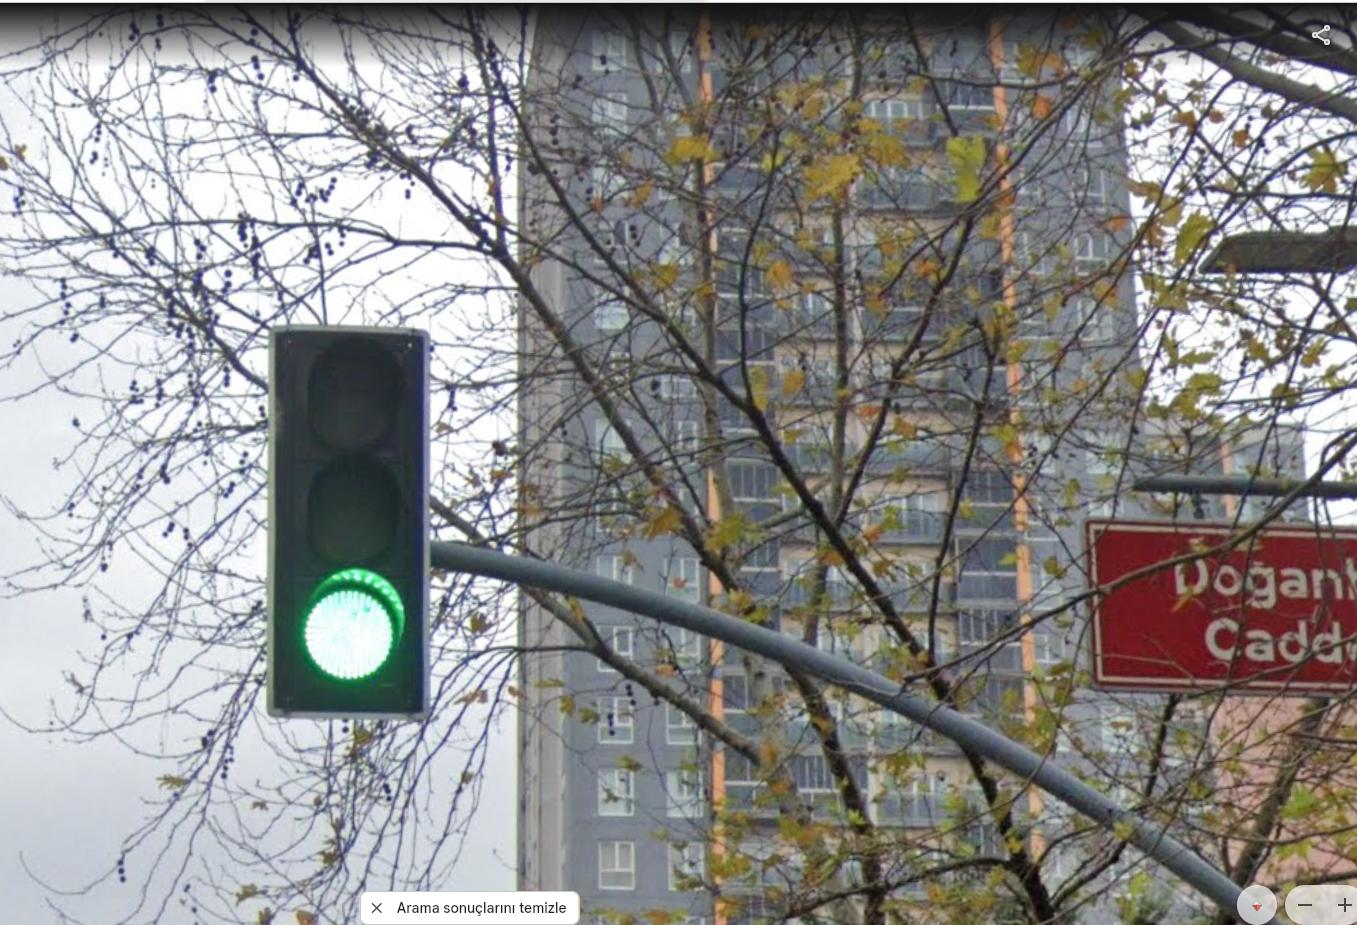greenlight: (275, 331, 430, 707)
